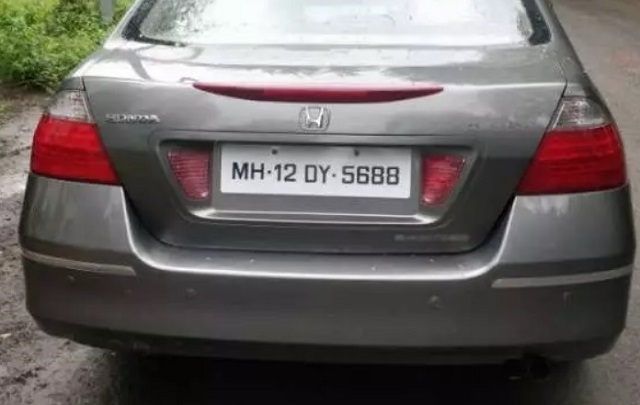licenseplate: (218, 139, 421, 200)
